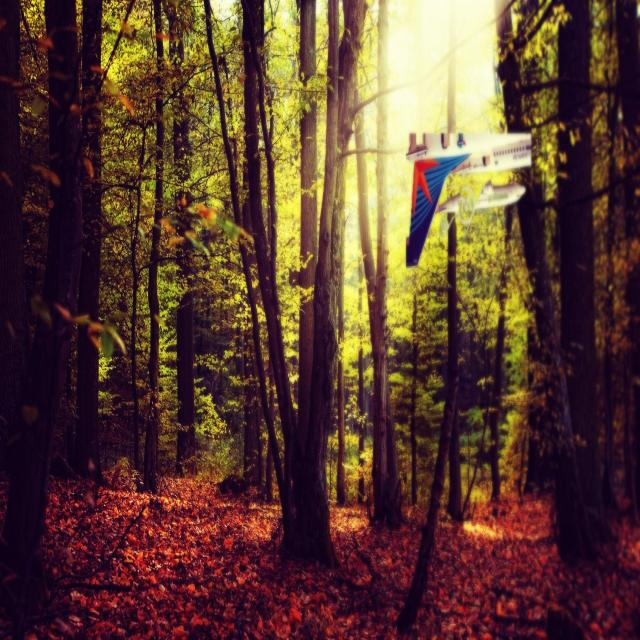airplane: (405, 128, 532, 268)
